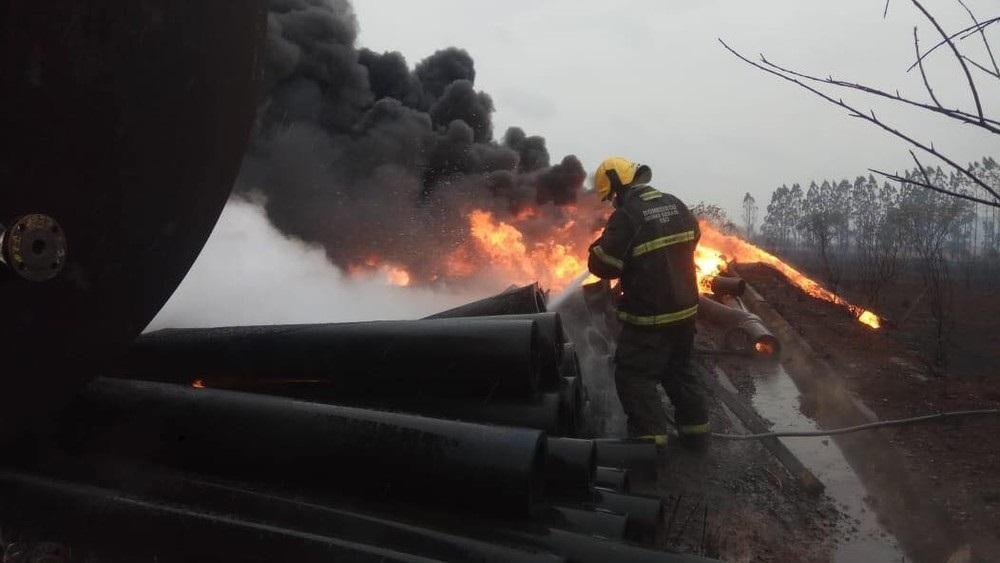fire: (474, 216, 579, 270), (703, 233, 749, 286)
smoke: (323, 80, 466, 206)
